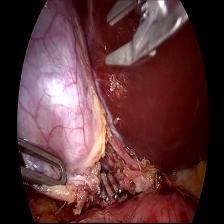Clipper: (103, 1, 186, 80)
